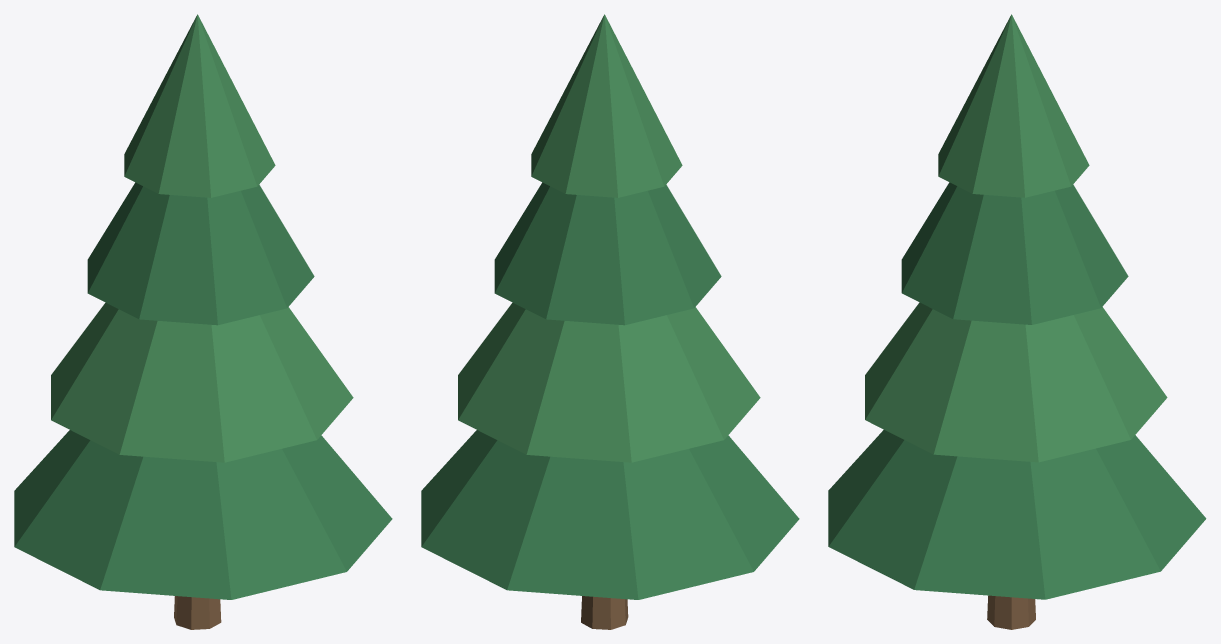
The model's file is th4_tanne.glb.
The picture shows the model from 3 angles, left to right: view 1: azimuth 30°, elevation 25°; view 2: azimuth 150°, elevation 25°; view 3: azimuth 270°, elevation 25°; orthographic projection.
Parts seen in each view (by area): view 1: Tanne; view 2: Tanne; view 3: Tanne.
Part boxes in pixels (box(x1,y1,x2,y2)): Tanne: box(14, 14, 392, 629); Tanne: box(421, 14, 799, 629); Tanne: box(828, 14, 1206, 629).
Bounding box in the file's own units: 3.45 × 6 × 3.39.
